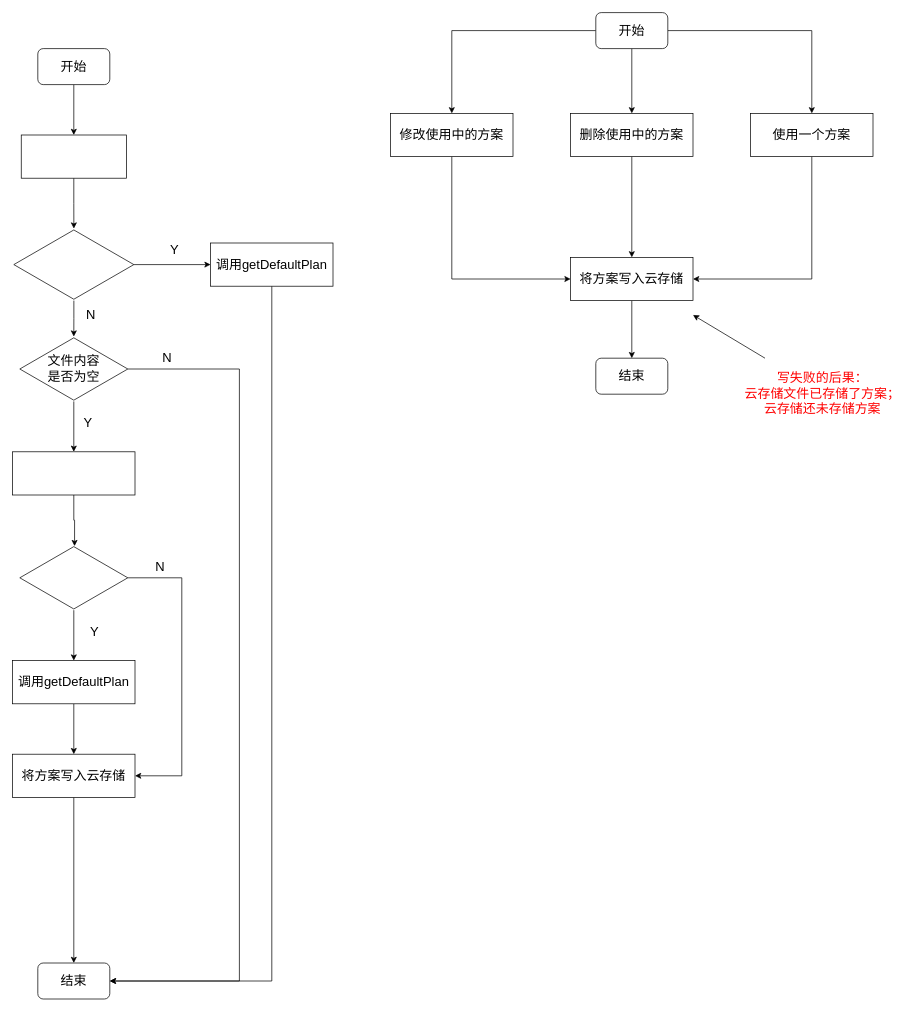
The diagram is 922 pixels wide and 1012 high, and some of its shapes have lost their labels. Here are the shapes that lost their labels. From the top down, the centre of each, then its label:
(73,156): 读取云存储文件
(73,264): 读取失败或 文件不存在
(73,473): 调用getUsedPlan
(73,577): 调用失败
